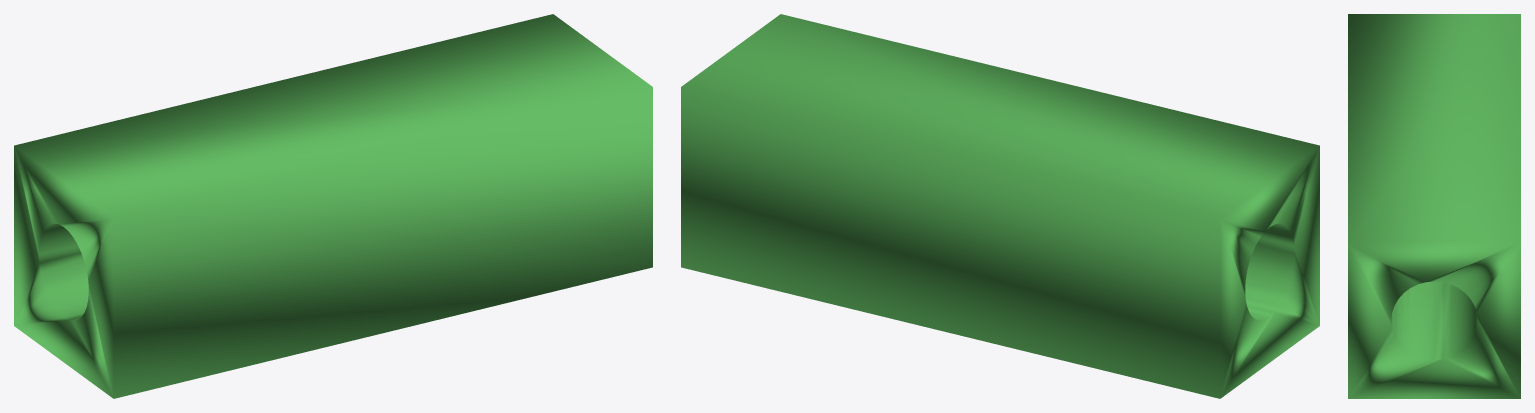
Rendered from expected.gltf.
The picture shows the model from 3 angles, left to right: view 1: azimuth 30°, elevation 25°; view 2: azimuth 150°, elevation 25°; view 3: azimuth 270°, elevation 25°; orthographic projection. The views are drawn at different scales.
Bounding box in the file's own units: 50 × 16 × 16.
